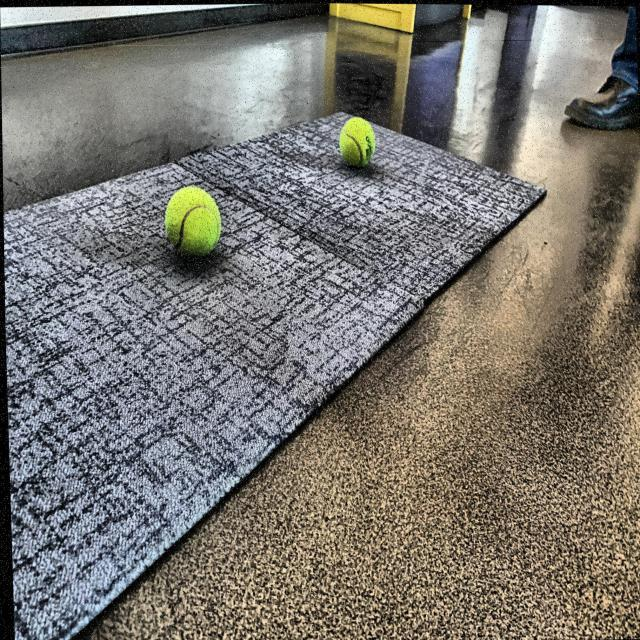tennis-ball: (162, 177, 222, 266), (329, 106, 379, 176)
